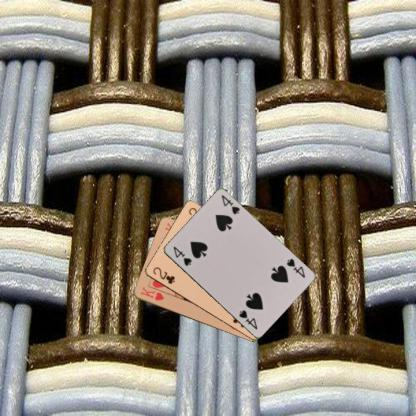2c: (150, 264, 176, 286)
4s: (170, 244, 192, 267), (284, 256, 306, 279)
Kh: (138, 284, 165, 302)
